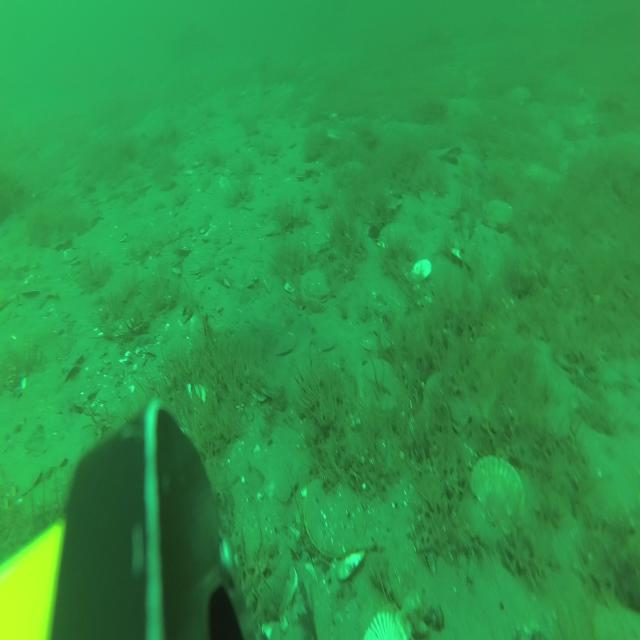scallop: (300, 466, 368, 560), (470, 451, 523, 534), (422, 368, 470, 440), (299, 267, 337, 308), (182, 239, 216, 279), (365, 610, 407, 640), (483, 194, 513, 232), (378, 186, 405, 213), (510, 82, 530, 108)
